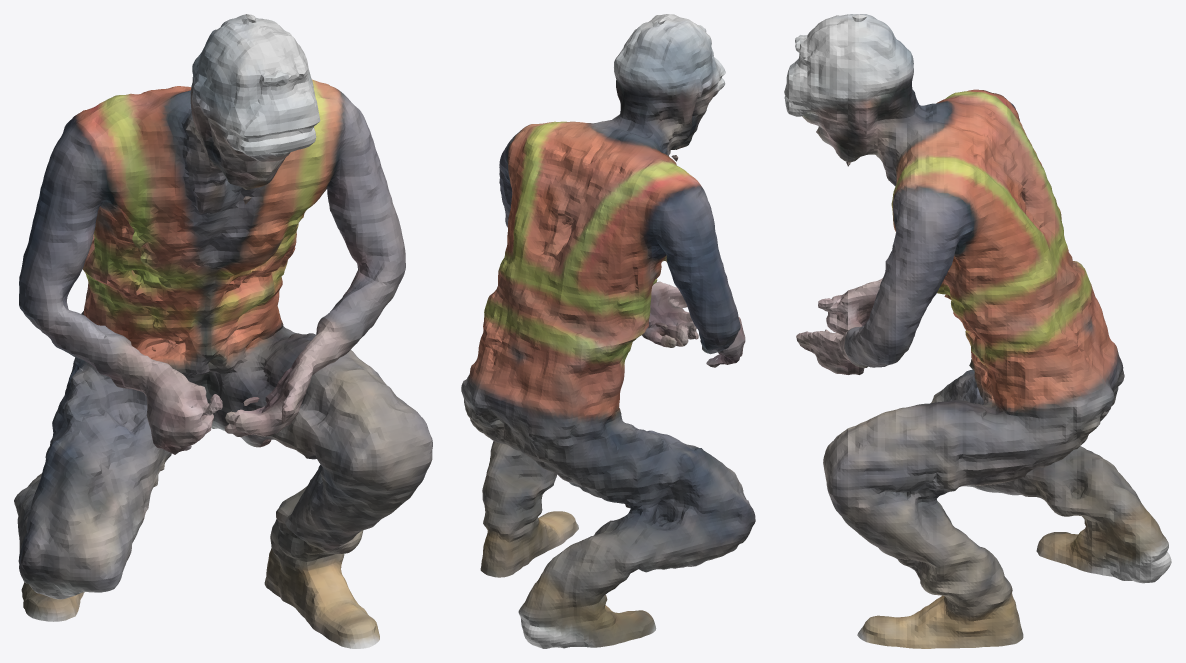
File: standup_3.glb
The picture shows the model from 3 angles, left to right: view 1: azimuth 30°, elevation 25°; view 2: azimuth 150°, elevation 25°; view 3: azimuth 270°, elevation 25°; orthographic projection. The views are drawn at different scales.
Parts seen in each view (by area): view 1: world; view 2: world; view 3: world.
Part boxes in pixels (<box>): world: <box>14,14,432,648</box>; world: <box>461,14,755,648</box>; world: <box>784,14,1171,648</box>.
Bounding box in the file's own units: 0.7322 × 1.34 × 0.8223.
